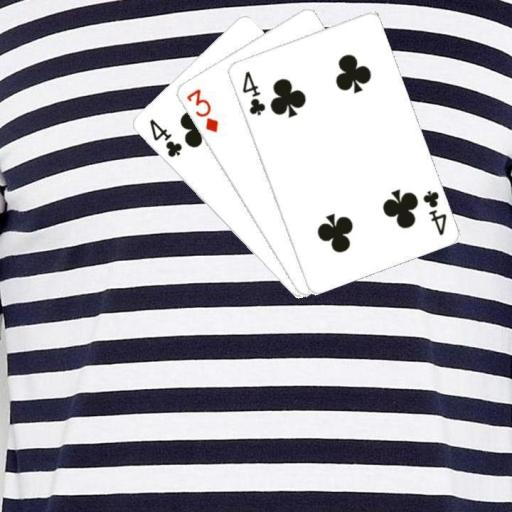card-corner: (182, 86, 220, 134), (146, 116, 183, 159), (419, 186, 448, 237), (239, 68, 267, 116)
